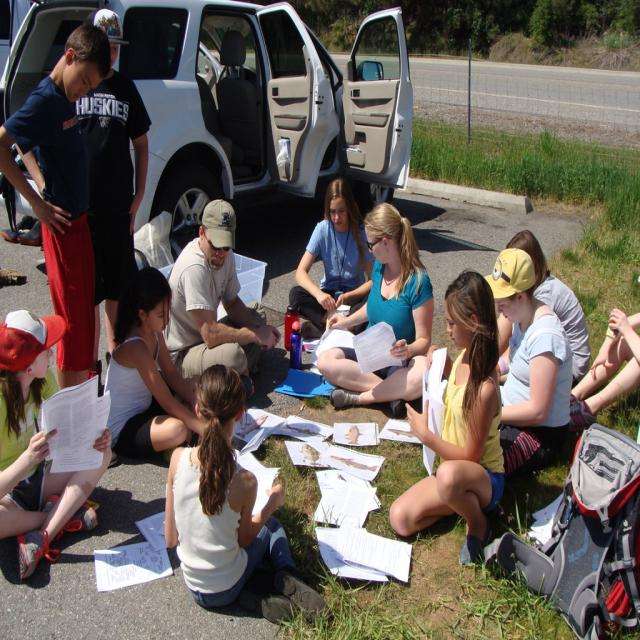car: (0, 0, 412, 261)
